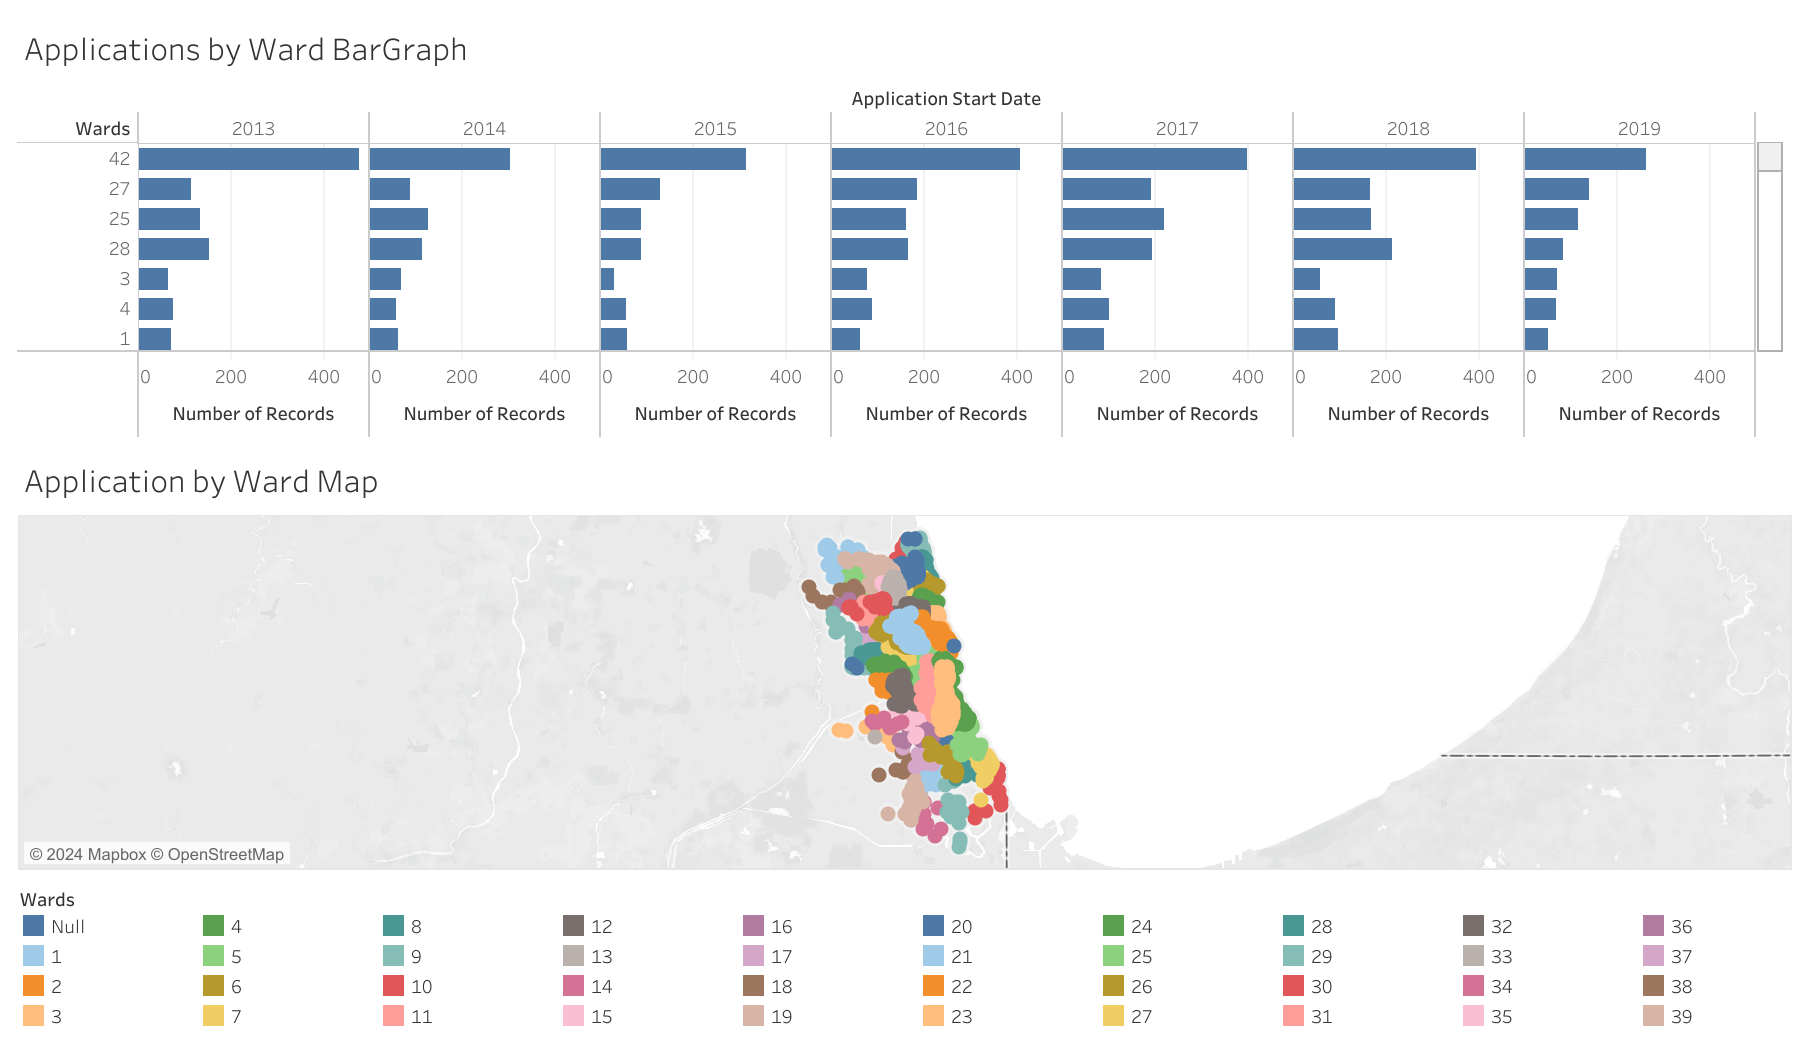

This screenshot's page, from the dashboard's own definition file:
{"tool":"tableau","page":{"name":"Dashboard 1","canvas":[1000,1000],"units":"permille","ordinal":0},"visuals":[{"type":"worksheet","title":"Applications by Ward BarGraph","mark":"Bar","rows":["Wards"],"cols":["Application Start Date","Number of Records"],"box":[5.5,9.9,439.4,980.1]},{"type":"worksheet","title":"Application by Ward Map","mark":"Automatic","rows":["Latitude"],"cols":["Longitude"],"box":[444.9,9.9,439.4,980.1]},{"type":"legend","title":"Application by Ward Map","param":"[federated.078isif03evph610dqwk80chkuxr].[none:Wards:ok]","box":[884.2,9.9,110.3,980.1]}]}

Visuals, with their boxes on the dashboard's canvas, which has no fixed pixel size, in thousandths of its width and height (x1, y1, x2, y2). These are canvas units, not pixel positions in the 1809x1049 screenshot, which may show the page scaled, cropped or inside an application window:
"Applications by Ward BarGraph" worksheet (Bar marks): (6, 10, 445, 990)
"Application by Ward Map" worksheet: (445, 10, 884, 990)
"Application by Ward Map" legend: (884, 10, 994, 990)
